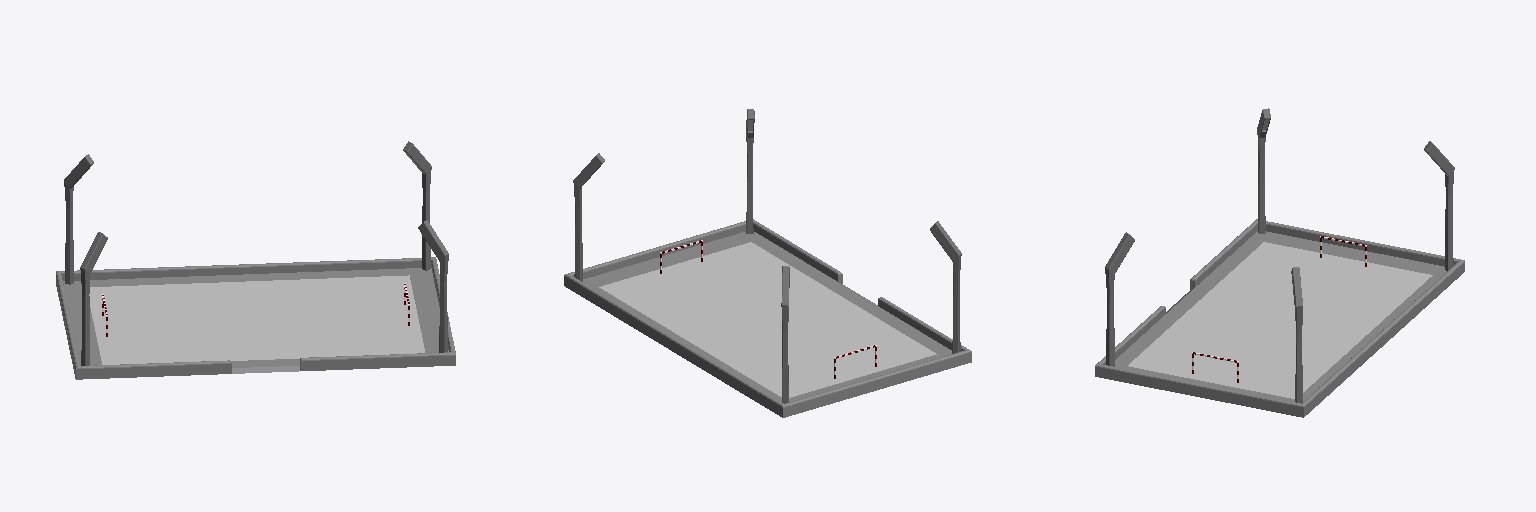
3 views of the same model, side by side, from view 1: azimuth 30°, elevation 25°; view 2: azimuth 150°, elevation 25°; view 3: azimuth 270°, elevation 25° (orthographic).
Visible parts, largest first — view 1: JZ_JX_26; view 2: JZ_JX_26; view 3: JZ_JX_26.
Boxes of the visible parts, x1,y1,x2,y2 form: JZ_JX_26: [56, 141, 455, 379]; JZ_JX_26: [564, 109, 971, 417]; JZ_JX_26: [1095, 108, 1464, 417].
Size of the model in its own units: 4746 by 1608 by 3963.